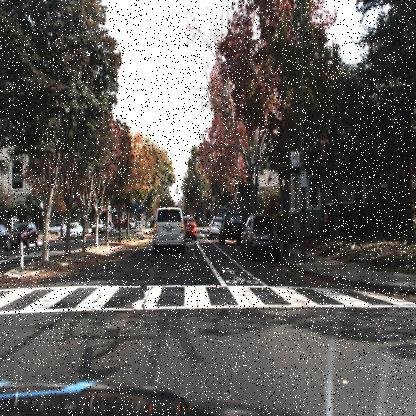car: (238, 212, 284, 262), (317, 200, 372, 237), (151, 202, 188, 254), (9, 219, 41, 248), (217, 206, 240, 246), (60, 216, 84, 242), (112, 214, 133, 235), (186, 211, 198, 247), (207, 212, 221, 241), (47, 217, 66, 236), (91, 216, 106, 240)
trafficLight-Red: (186, 186, 190, 198), (195, 200, 199, 212), (209, 193, 212, 205)
